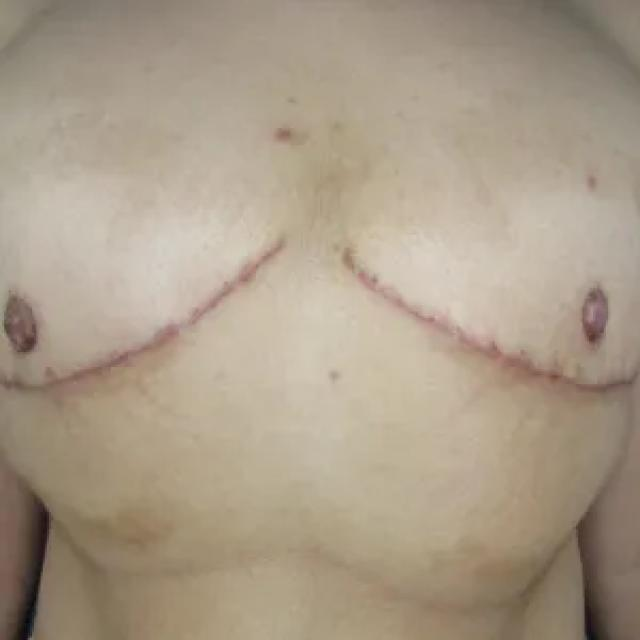Seno herido: (329, 177, 638, 435), (0, 174, 301, 431)
